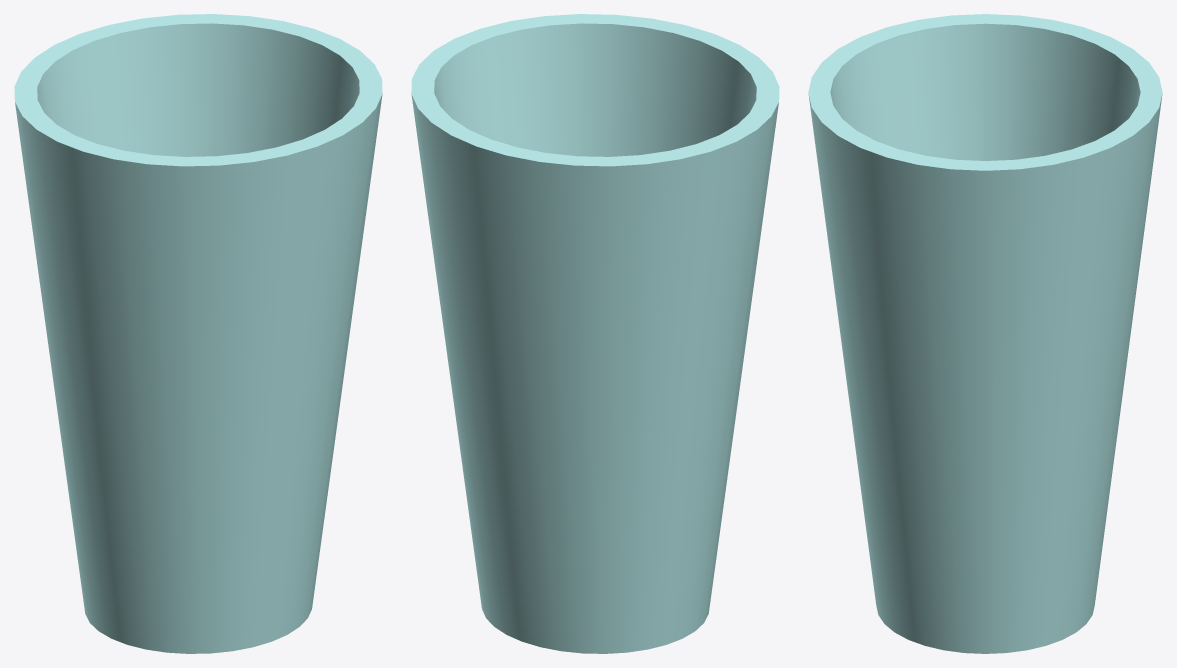
3 views of the same model, side by side, from view 1: azimuth 30°, elevation 25°; view 2: azimuth 150°, elevation 25°; view 3: azimuth 270°, elevation 25° (orthographic).
Parts seen in each view (by area): view 1: 16oz; view 2: 16oz; view 3: 16oz.
Part boxes in pixels (x1=…): 16oz: x1=14, y1=14, x2=382, y2=653; 16oz: x1=411, y1=14, x2=779, y2=653; 16oz: x1=808, y1=14, x2=1162, y2=653.
Bounding box in the file's own units: 34.09 × 52.03 × 32.55.
